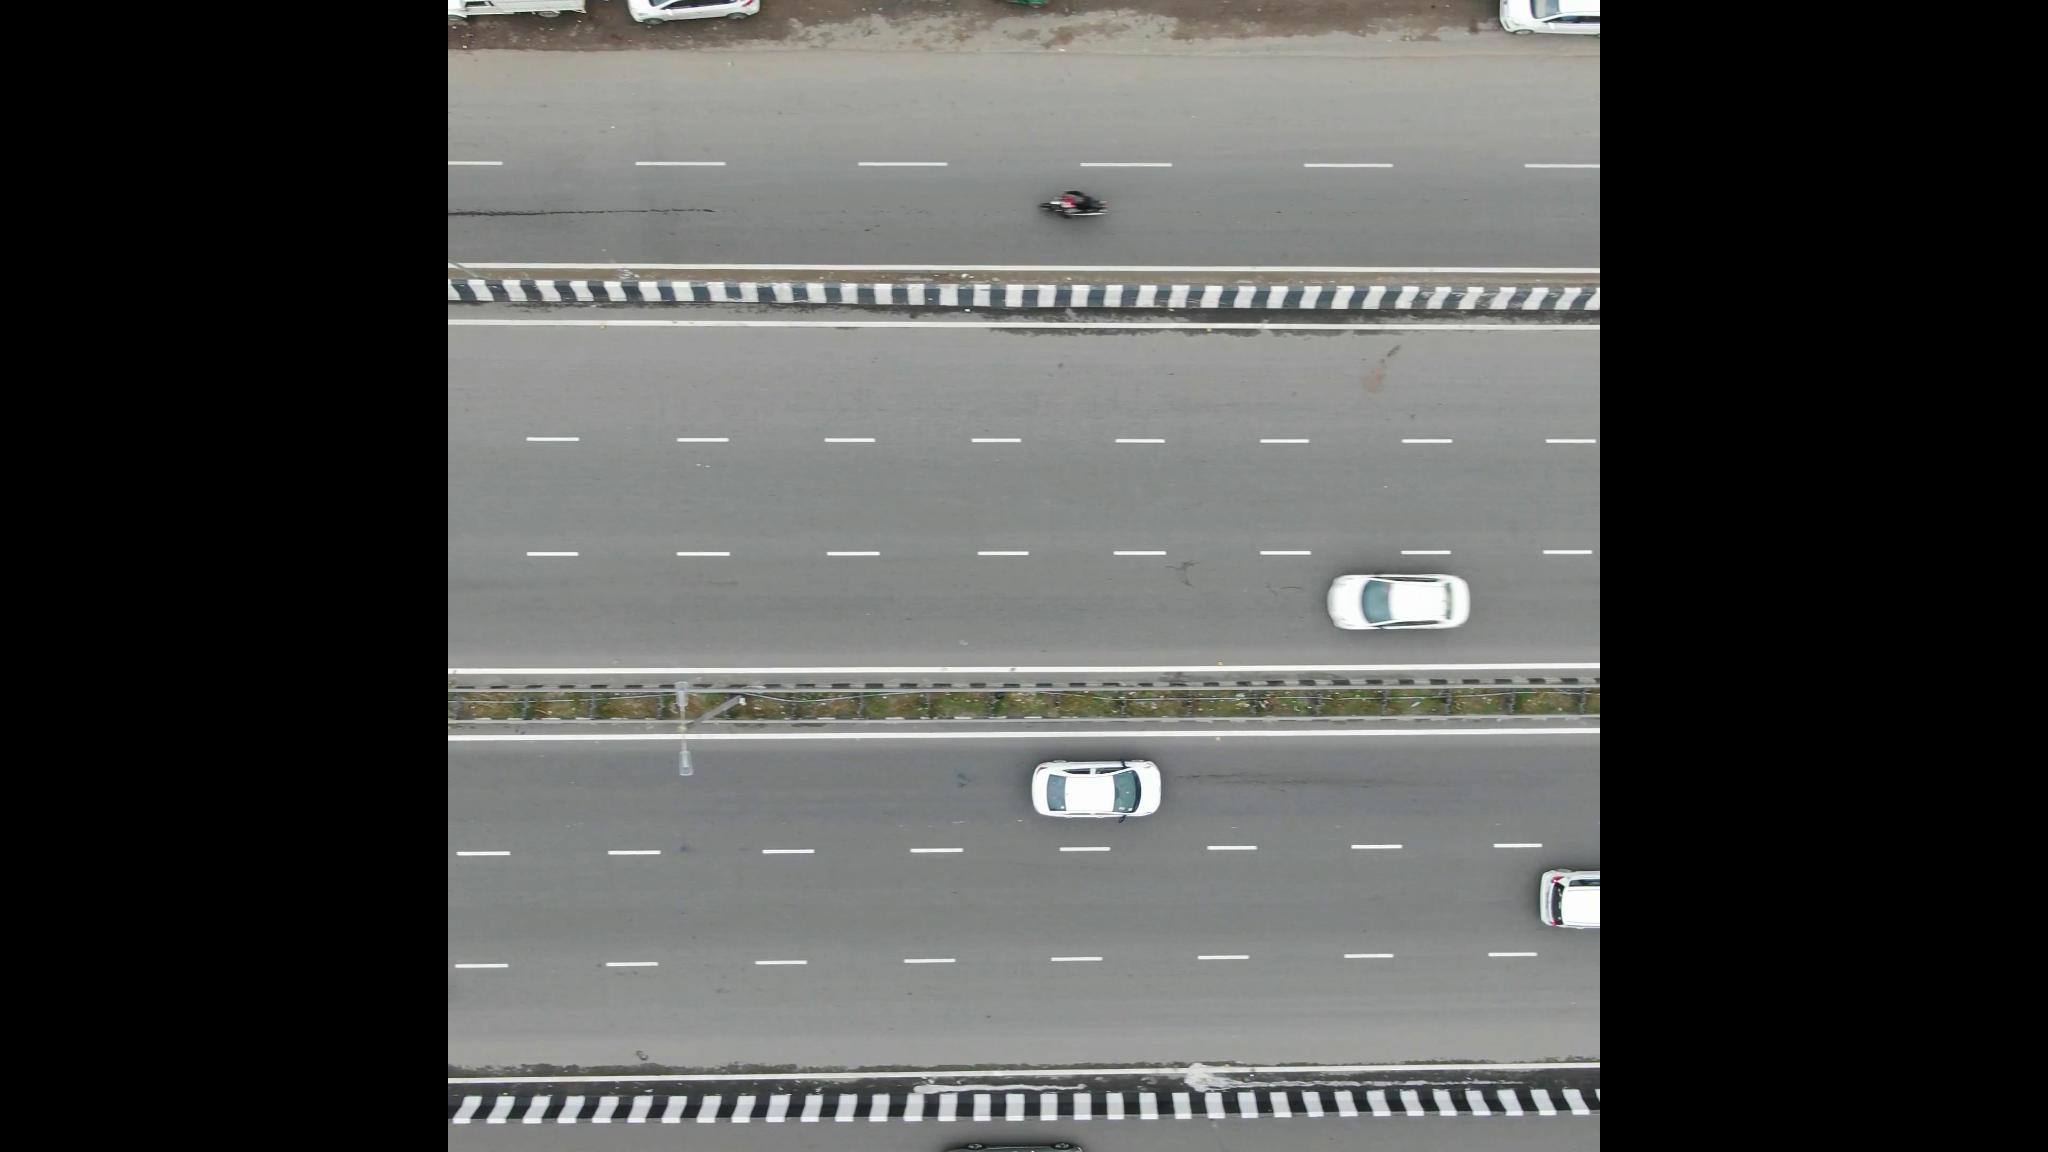Ravelling: (608, 191, 775, 236), (452, 196, 606, 233)
